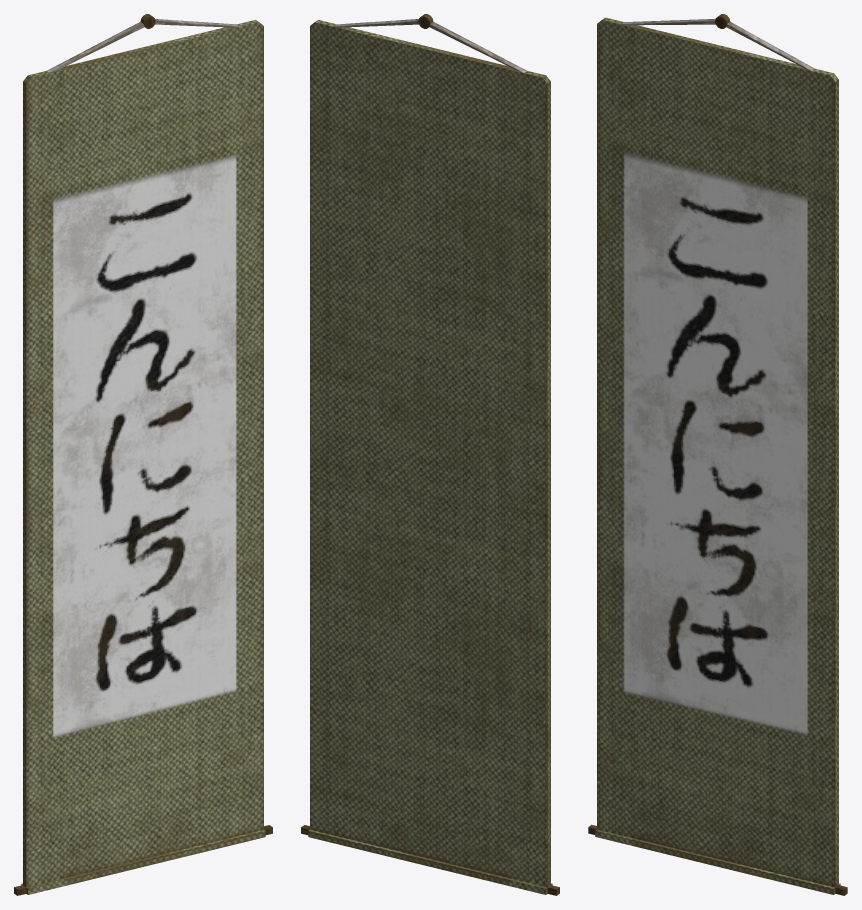
File: quadro.glb
3 renders of one model, left to right at view 1: azimuth 30°, elevation 25°; view 2: azimuth 150°, elevation 25°; view 3: azimuth 330°, elevation 25°, orthographic.
Parts seen in each view (by area): view 1: defaultMaterial.001; view 2: defaultMaterial.001; view 3: defaultMaterial.001.
Boxes of the visible parts, left/top/right/bottom form: defaultMaterial.001: left=14, top=14, right=272, bottom=895; defaultMaterial.001: left=301, top=14, right=559, bottom=895; defaultMaterial.001: left=588, top=14, right=847, bottom=895.
Bounding box in the file's own units: 0.4548 × 1.44 × 0.0212.
1 material, 1 textured.
